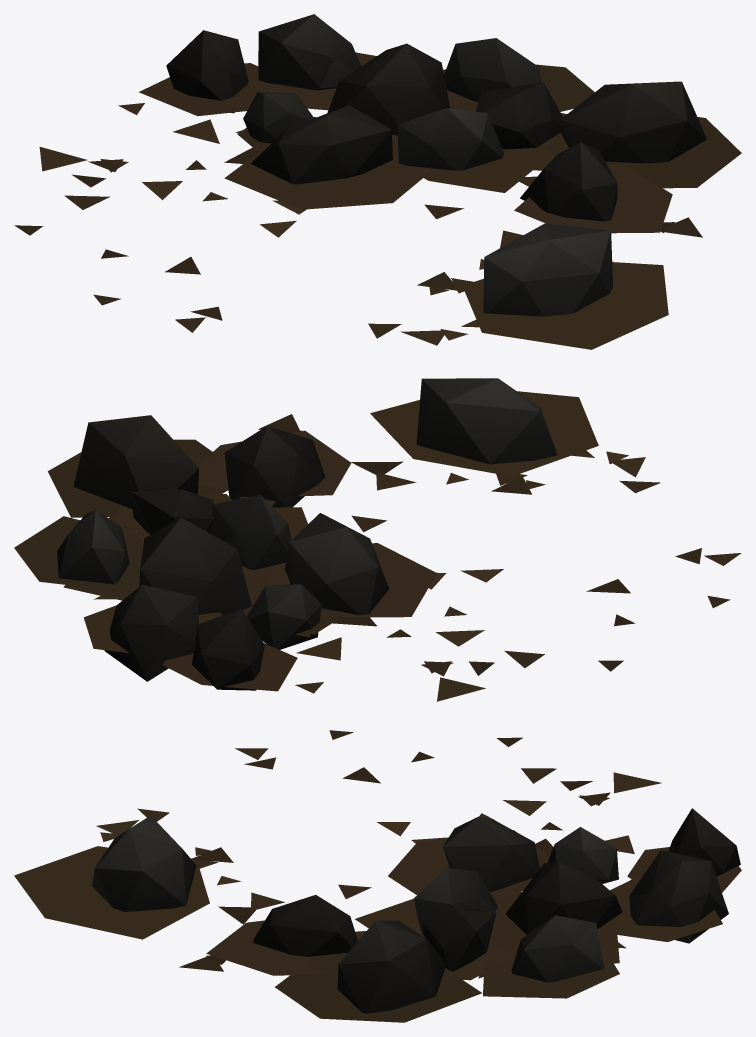
File: coal.glb
The picture shows the model from 3 angles, top to bottom: view 1: azimuth 30°, elevation 25°; view 2: azimuth 150°, elevation 25°; view 3: azimuth 270°, elevation 25°; orthographic projection. The views are drawn at different scales.
Visible parts, largest first — view 1: coal; view 2: coal; view 3: coal.
Part boxes in pixels (box(x1,y1,x2,y2)): coal: box(14, 14, 741, 349); coal: box(14, 378, 741, 701); coal: box(14, 730, 741, 1022).
Size of the model in its own units: 1.48 by 0.1897 by 1.55.
